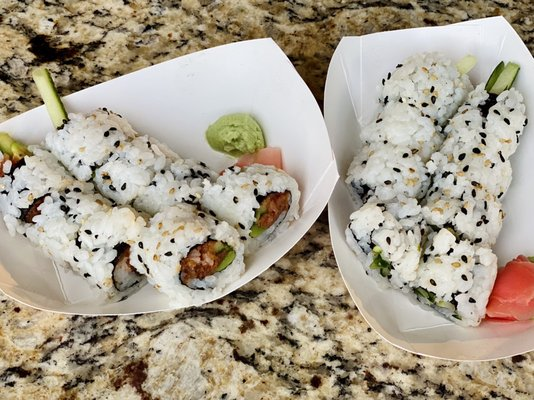sushi: (1, 37, 340, 387), (321, 17, 533, 332)
